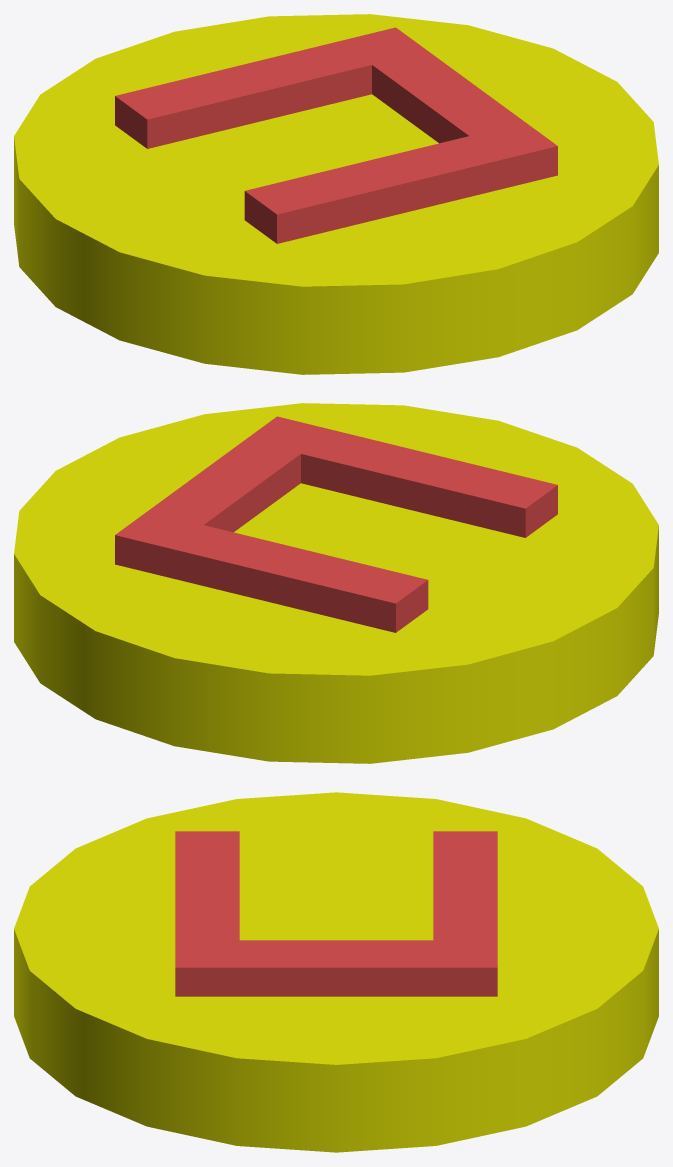
File: money.fbx
The picture shows the model from 3 angles, top to bottom: view 1: azimuth 30°, elevation 25°; view 2: azimuth 150°, elevation 25°; view 3: azimuth 270°, elevation 25°; orthographic projection.
Parts seen in each view (by area): view 1: pCylinder1, pCube12, pCube13, pCube1, pCube3, pCube10, pCube11, pCube2, pCube5, pCube9, pCube7, pCube4 (+2 smaller); view 2: pCylinder1, pCube13, pCube12, pCube9, pCube2, pCube3, pCube11, pCube8, pCube10, pCube1, pCube6, pCube4 (+2 smaller); view 3: pCylinder1, pCube6, pCube7, pCube4, pCube5, pCube8, pCube1, pCube2, pCube3, pCube9, pCube10, pCube11 (+2 smaller).
Boxes of the visible parts, x1,y1,x2,y2 form: pCylinder1: (14, 14, 658, 374); pCube12: (244, 177, 333, 243); pCube13: (115, 82, 203, 148); pCube1: (413, 136, 501, 202); pCube3: (301, 163, 389, 230); pCube10: (227, 55, 315, 121); pCube11: (171, 68, 259, 134); pCube2: (357, 150, 445, 216); pCube5: (470, 122, 557, 188); pCube9: (284, 41, 371, 107); pCube7: (372, 51, 460, 117); pCube4: (404, 75, 492, 141); pCylinder1: (14, 403, 658, 763); pCube13: (339, 566, 428, 632); pCube12: (469, 471, 557, 537); pCube9: (171, 525, 259, 591); pCube2: (357, 444, 445, 510); pCube3: (413, 457, 501, 523); pCube11: (283, 552, 371, 619); pCube8: (115, 511, 202, 577); pCube10: (227, 539, 315, 605); pCube1: (301, 430, 388, 496); pCube6: (212, 440, 300, 506); pCube4: (180, 464, 268, 530); pCylinder1: (14, 792, 658, 1152); pCube6: (239, 940, 304, 996); pCube7: (368, 940, 433, 996); pCube4: (304, 940, 368, 996); pCube5: (175, 940, 239, 996); pCube8: (433, 940, 497, 996); pCube1: (175, 913, 239, 940); pCube2: (175, 885, 239, 912); pCube3: (175, 858, 239, 885); pCube9: (433, 913, 497, 940); pCube10: (433, 885, 497, 912); pCube11: (433, 858, 497, 885).
Size of the model in its own units: 2 by 0.4 by 2.
